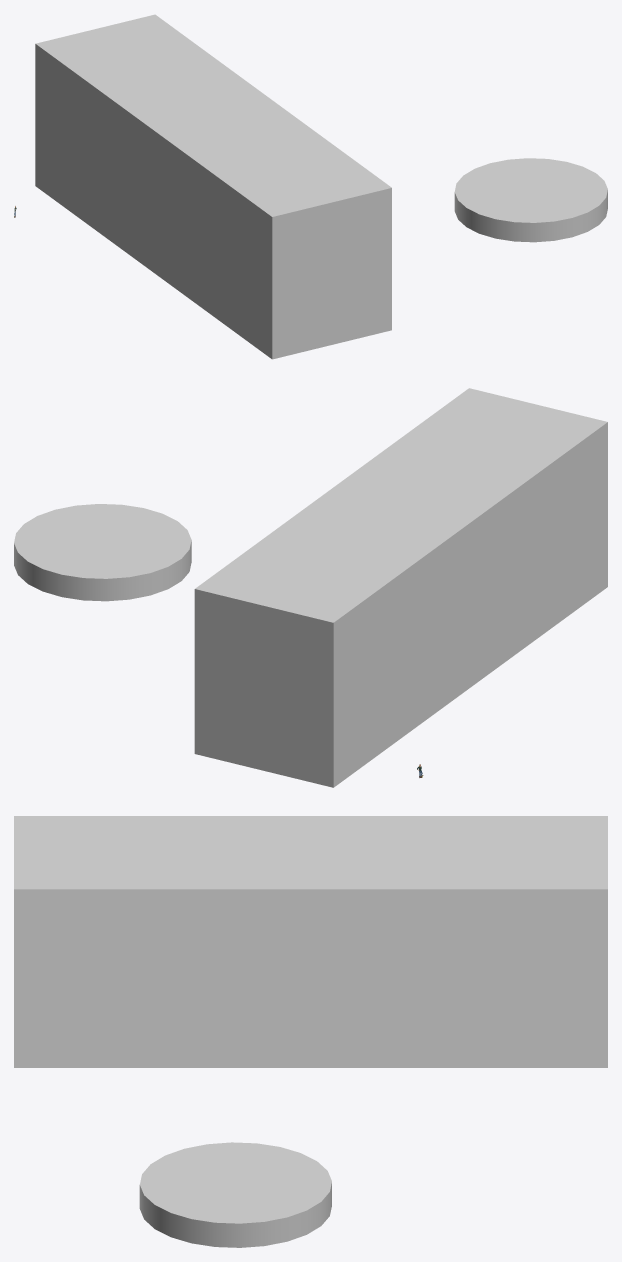
File: ban.obj
The picture shows the model from 3 angles, top to bottom: view 1: azimuth 30°, elevation 25°; view 2: azimuth 150°, elevation 25°; view 3: azimuth 270°, elevation 25°; orthographic projection. The views are drawn at different scales.
Visible parts, largest first — view 1: Mesh1 Model, Mesh2 Model; view 2: Mesh1 Model, Mesh2 Model; view 3: Mesh1 Model, Mesh2 Model.
Part boxes in pixels (x1=…): Mesh1 Model: x1=35, y1=14, x2=391, y2=359; Mesh2 Model: x1=454, y1=158, x2=607, y2=242; Mesh1 Model: x1=194, y1=388, x2=607, y2=787; Mesh2 Model: x1=14, y1=504, x2=191, y2=601; Mesh1 Model: x1=14, y1=816, x2=607, y2=1067; Mesh2 Model: x1=139, y1=1142, x2=331, y2=1247.
Size of the model in its own units: 66.39 by 19.52 by 58.77.
21 materials, 1 textured.
